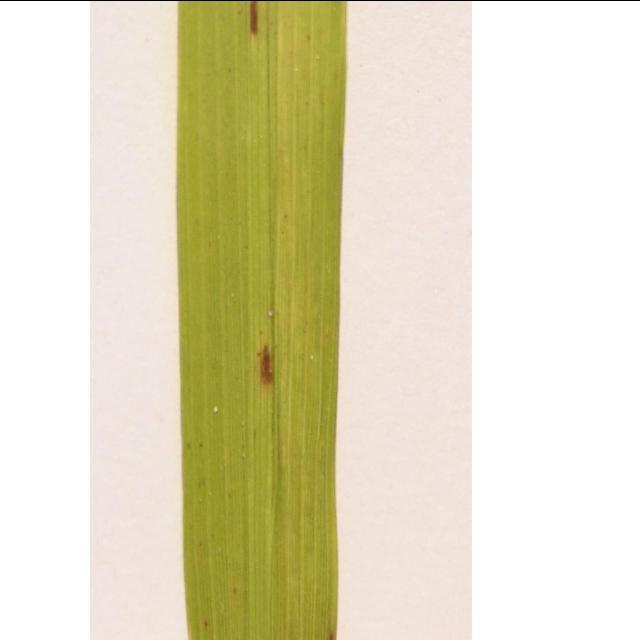Brown spot: (239, 340, 293, 392), (226, 1, 272, 46), (230, 584, 253, 602), (196, 612, 213, 635), (263, 631, 288, 640), (326, 629, 338, 640)
